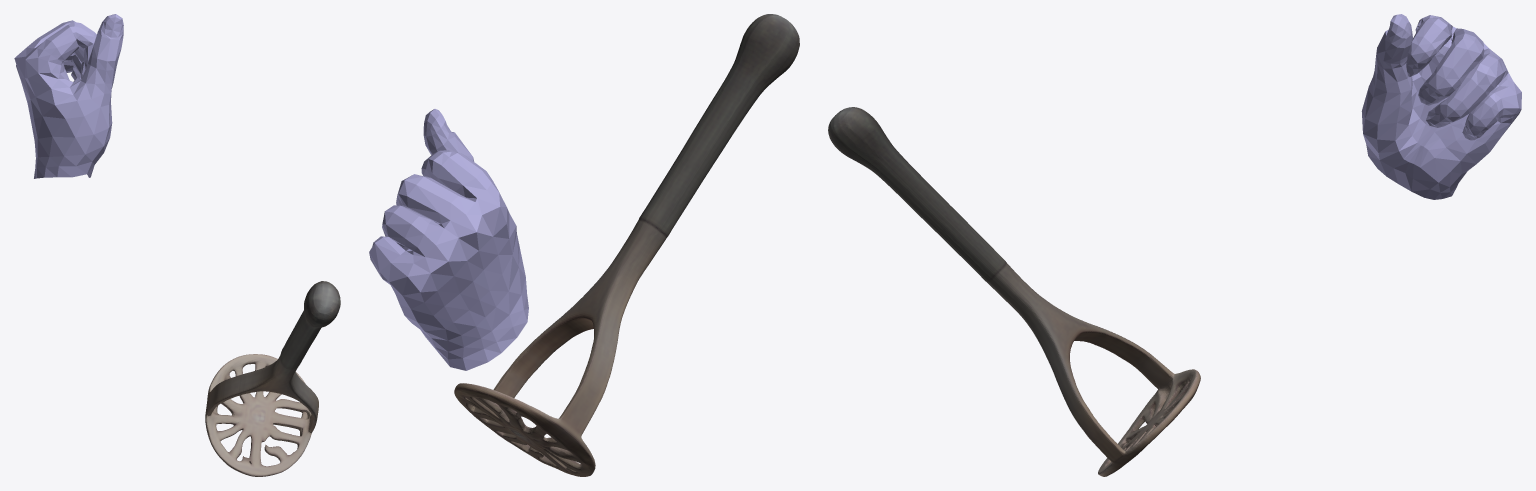
Rendered from frame_0022_source_000022_hand_object.glb.
The picture shows the model from 3 angles, left to right: view 1: azimuth 30°, elevation 25°; view 2: azimuth 150°, elevation 25°; view 3: azimuth 270°, elevation 25°; orthographic projection. The views are drawn at different scales.
Visible parts, largest first — view 1: world; view 2: world; view 3: world.
Part boxes in pixels (x1,y1,x2,y2): world: (14, 14, 340, 476); world: (369, 14, 799, 476); world: (828, 14, 1521, 476).
Bounding box in the file's own units: 0.1201 × 0.2731 × 0.3905.
